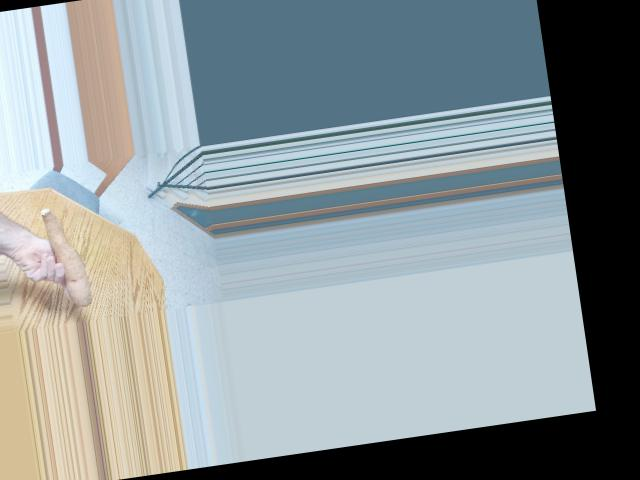sweet_potato: (35, 202, 96, 310)
